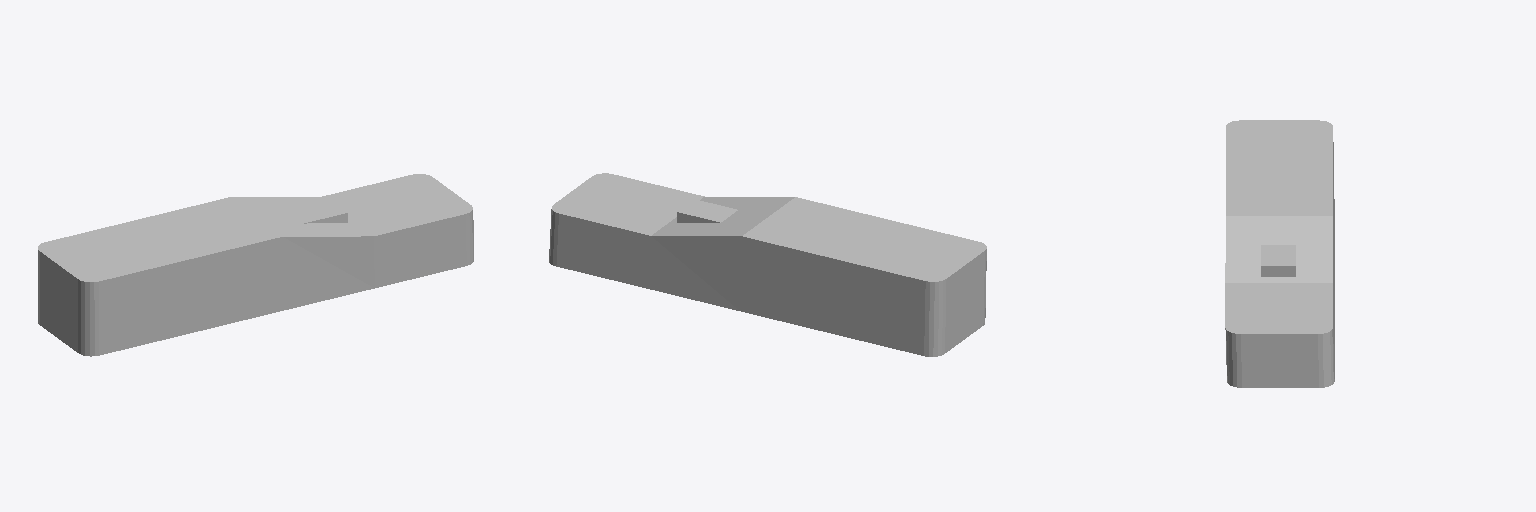
Rendered from controller1.obj.
The picture shows the model from 3 angles: view 1: azimuth 30°, elevation 25°; view 2: azimuth 150°, elevation 25°; view 3: azimuth 270°, elevation 25°; orthographic projection.
Visible parts, largest first — view 1: Cube; view 2: Cube; view 3: Cube.
Part boxes in pixels (bbox=[...]): Cube: bbox=[38, 174, 473, 356]; Cube: bbox=[549, 173, 986, 356]; Cube: bbox=[1225, 120, 1334, 387].
Bounding box in the file's own units: 8.48 × 1.61 × 2.03.